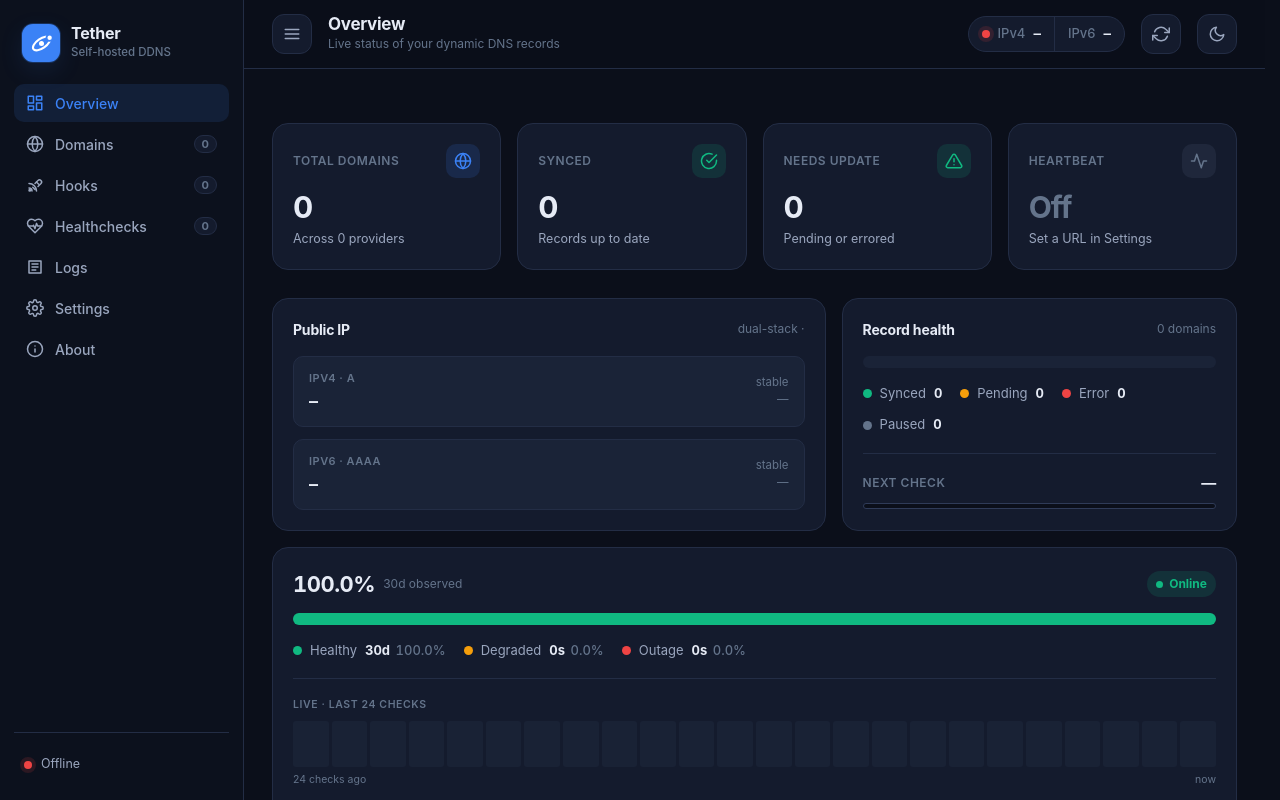
Test: App shell › starts on Overview and switches views via the rail
Expected: the heading "Overview" is shown, [328,14,405,34]
What coordinates should you click on to do the following:
click the button "Domains 0"
I would click on:
 (122, 144)
Its box is [14,125,229,163].
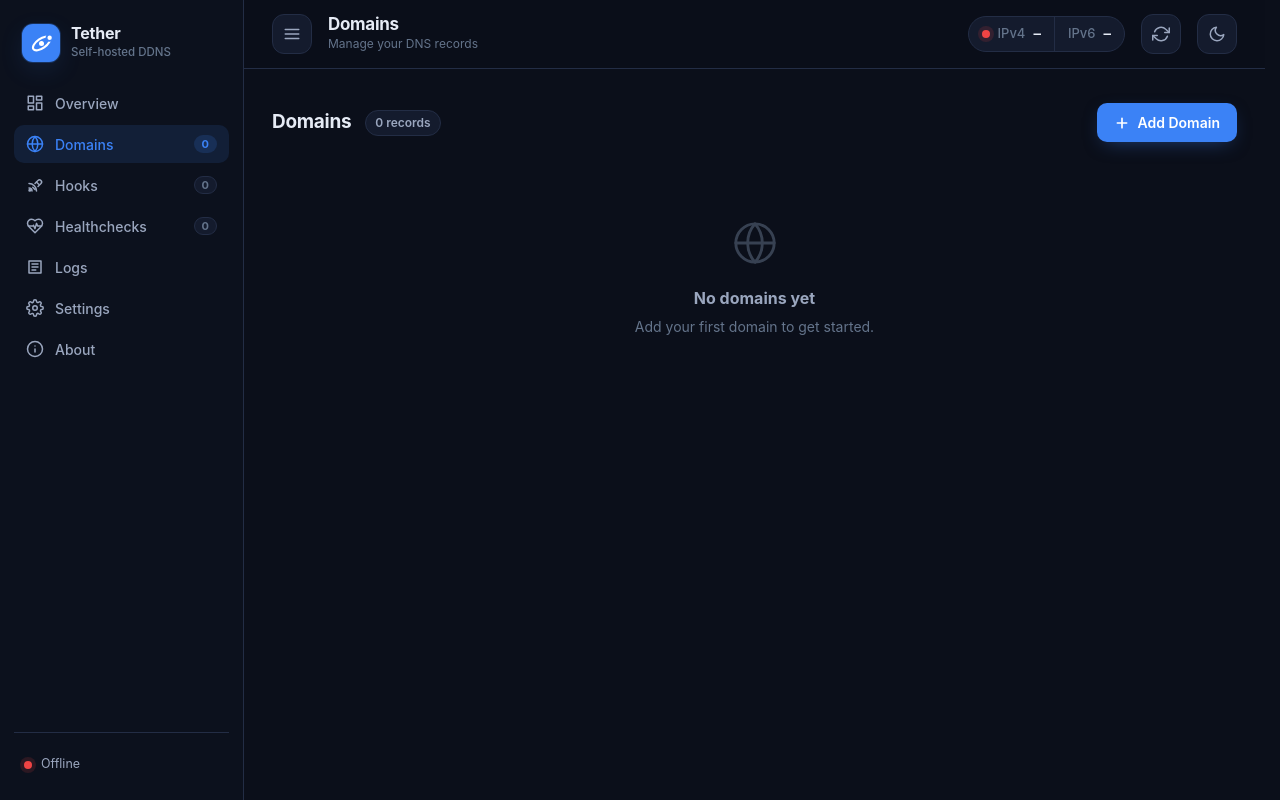
Now the heading "Domains" in the row of "IPv4" is shown, box [328,14,399,34]
